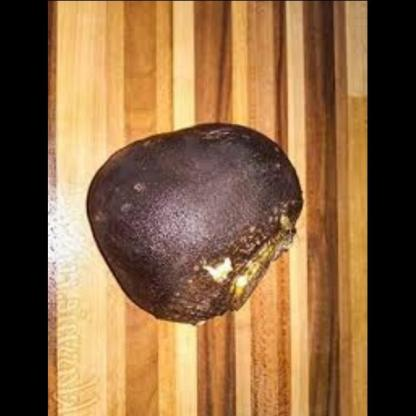redka: (87, 116, 304, 330)
